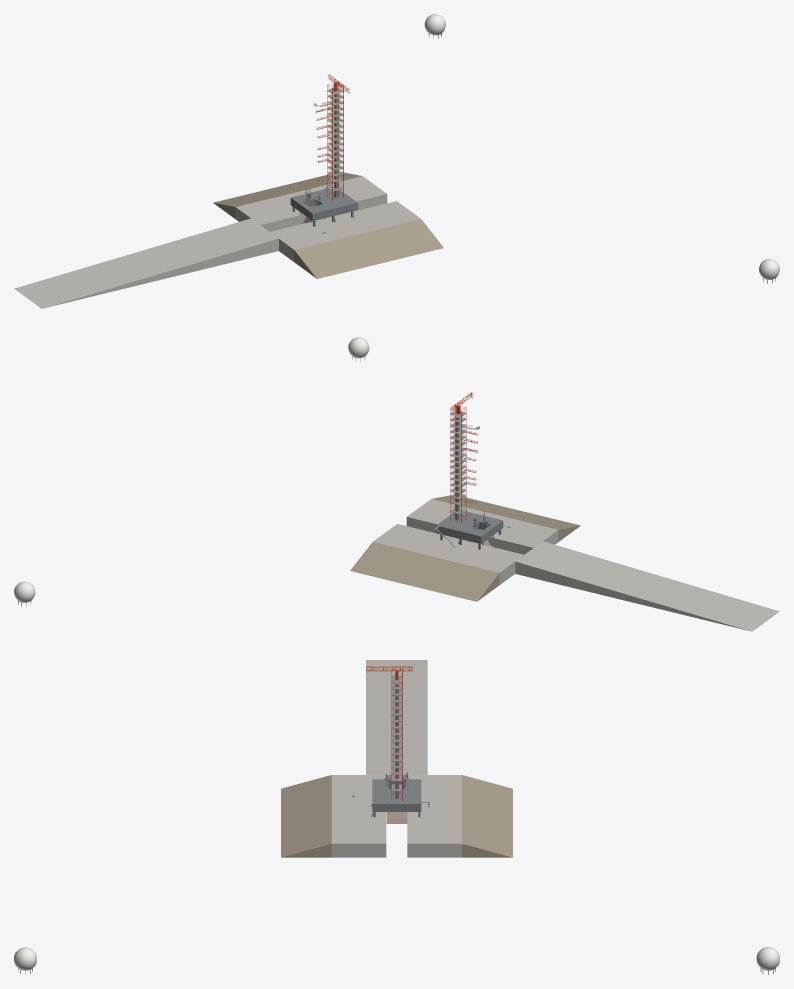
Rendered from pad-b-1969-05.lod2.glb.
3 renders of one model, top to bottom at view 1: azimuth 30°, elevation 25°; view 2: azimuth 150°, elevation 25°; view 3: azimuth 270°, elevation 25°, orthographic. The views are drawn at different scales.
Visible parts, largest first — view 1: Hardstand_Concrete, Hardstand_Earth, Launcher_Base_Steel, Umbilical_Tower_Deck, Umbilical_Tower_Red, Storage_Spheres_White; view 2: Hardstand_Concrete, Hardstand_Earth, Launcher_Base_Steel, Umbilical_Tower_Deck, Umbilical_Tower_Red, Storage_Spheres_White; view 3: Hardstand_Concrete, Hardstand_Earth, Launcher_Base_Steel, Umbilical_Tower_Deck, Storage_Spheres_White, Umbilical_Tower_Red.
Boxes of the visible parts, x1,y1,x2,y2 form: Hardstand_Concrete: [14, 176, 420, 308]; Hardstand_Earth: [213, 172, 443, 278]; Launcher_Base_Steel: [290, 189, 357, 220]; Umbilical_Tower_Deck: [327, 87, 343, 191]; Umbilical_Tower_Red: [327, 82, 343, 200]; Storage_Spheres_White: [424, 14, 779, 279]; Hardstand_Concrete: [373, 499, 779, 631]; Hardstand_Earth: [350, 495, 580, 601]; Launcher_Base_Steel: [436, 511, 503, 543]; Umbilical_Tower_Deck: [450, 410, 466, 514]; Umbilical_Tower_Red: [450, 405, 466, 523]; Storage_Spheres_White: [14, 337, 369, 602]; Hardstand_Concrete: [331, 660, 461, 857]; Hardstand_Earth: [281, 775, 512, 857]; Launcher_Base_Steel: [372, 779, 421, 811]; Umbilical_Tower_Deck: [391, 676, 402, 790]; Storage_Spheres_White: [14, 947, 779, 970]; Umbilical_Tower_Red: [391, 669, 402, 800].
Size of the model in its own units: 630 by 149 by 644.
